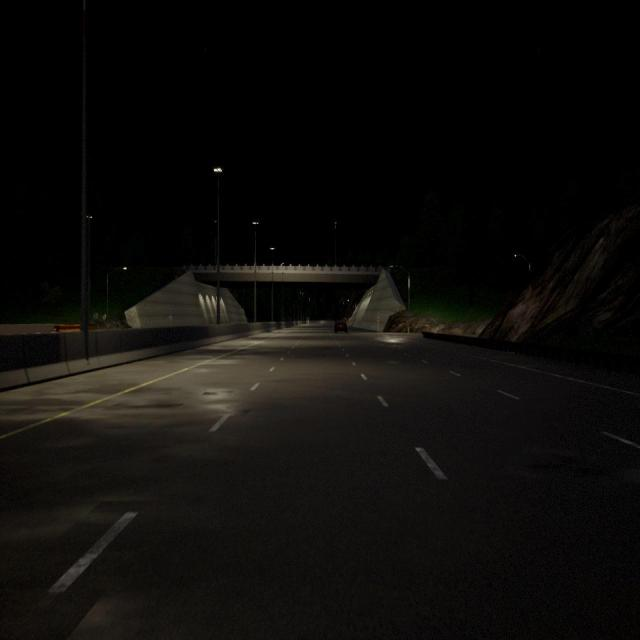Traffic_Signs: (94, 313, 98, 319), (103, 314, 106, 320), (376, 316, 380, 320), (169, 315, 172, 320), (344, 317, 347, 320)
Vehicle: (334, 322, 348, 334)
